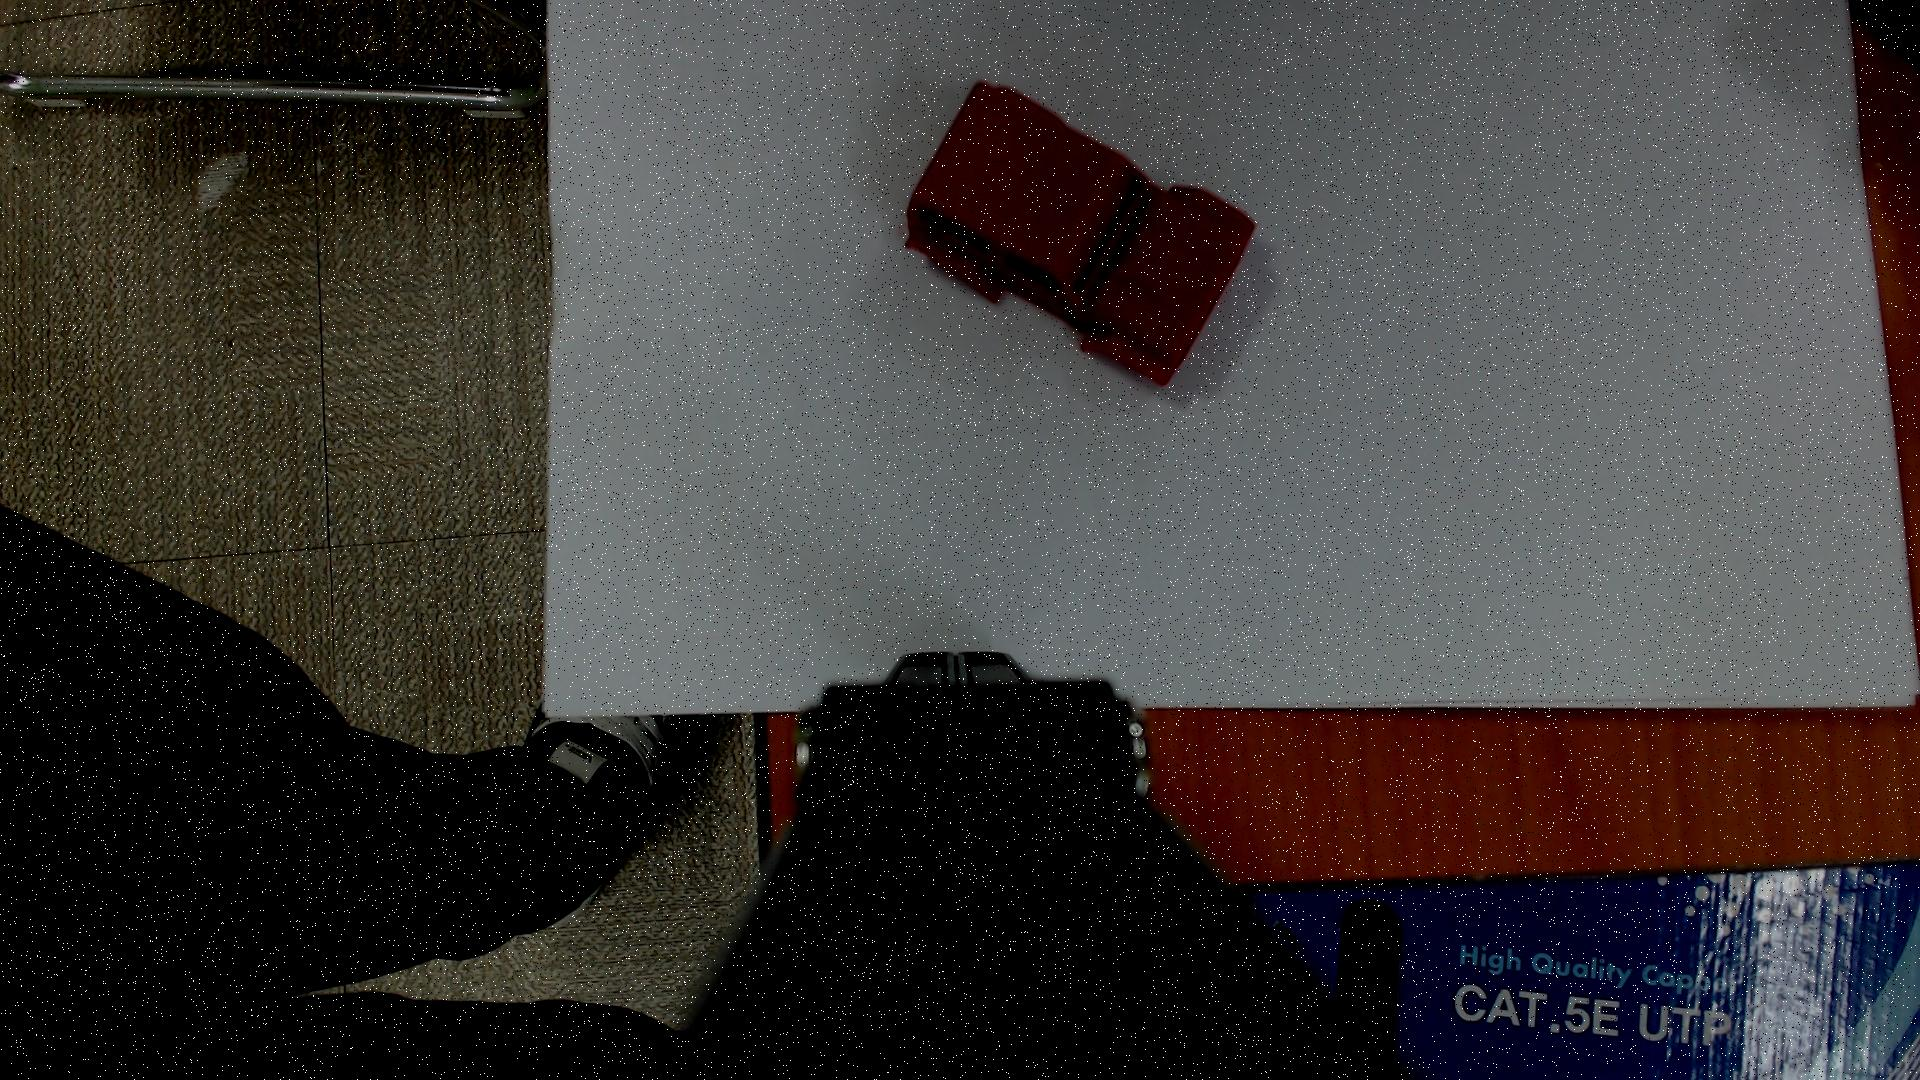Upper_ok: (907, 83, 1254, 384)
